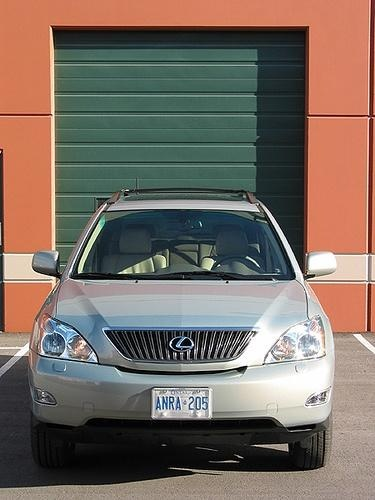car: (26, 189, 340, 474)
